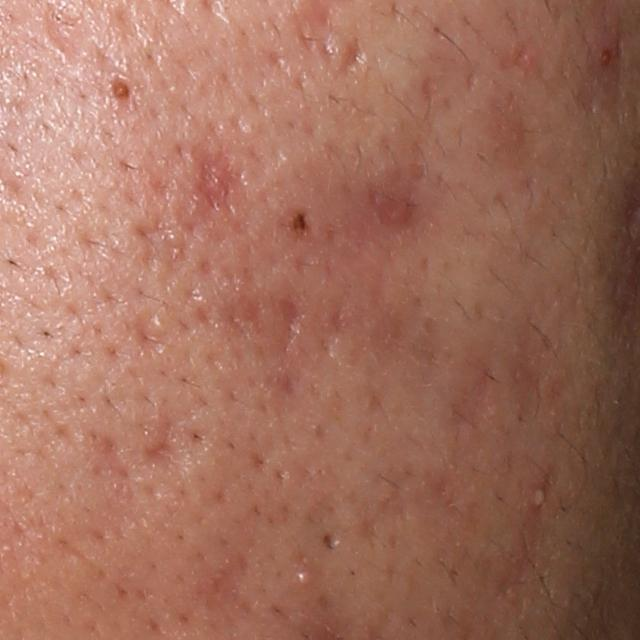atrophic_scar: (165, 133, 254, 228), (357, 186, 436, 245), (128, 215, 191, 288), (141, 408, 201, 475), (89, 428, 141, 499), (450, 369, 491, 431), (220, 290, 266, 340), (134, 308, 176, 358), (276, 294, 301, 351), (322, 532, 337, 554)
comedo: (297, 566, 315, 594)
nevus: (279, 206, 315, 238)
papule: (590, 36, 625, 70)
